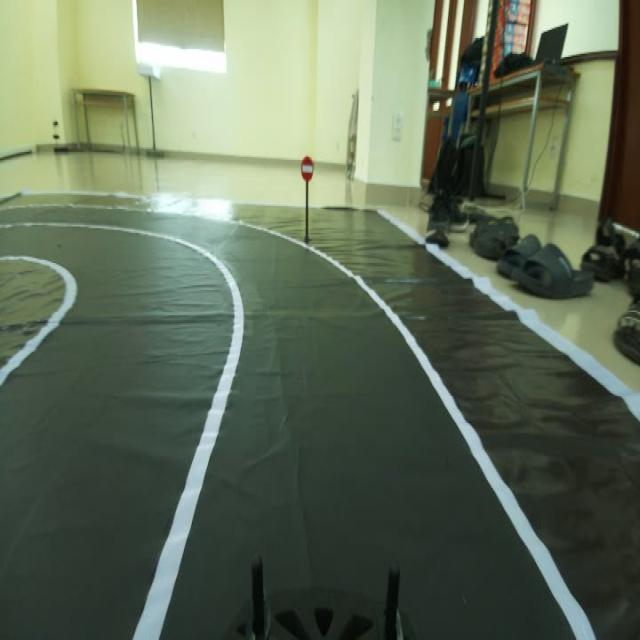no_entry: (295, 150, 323, 188)
